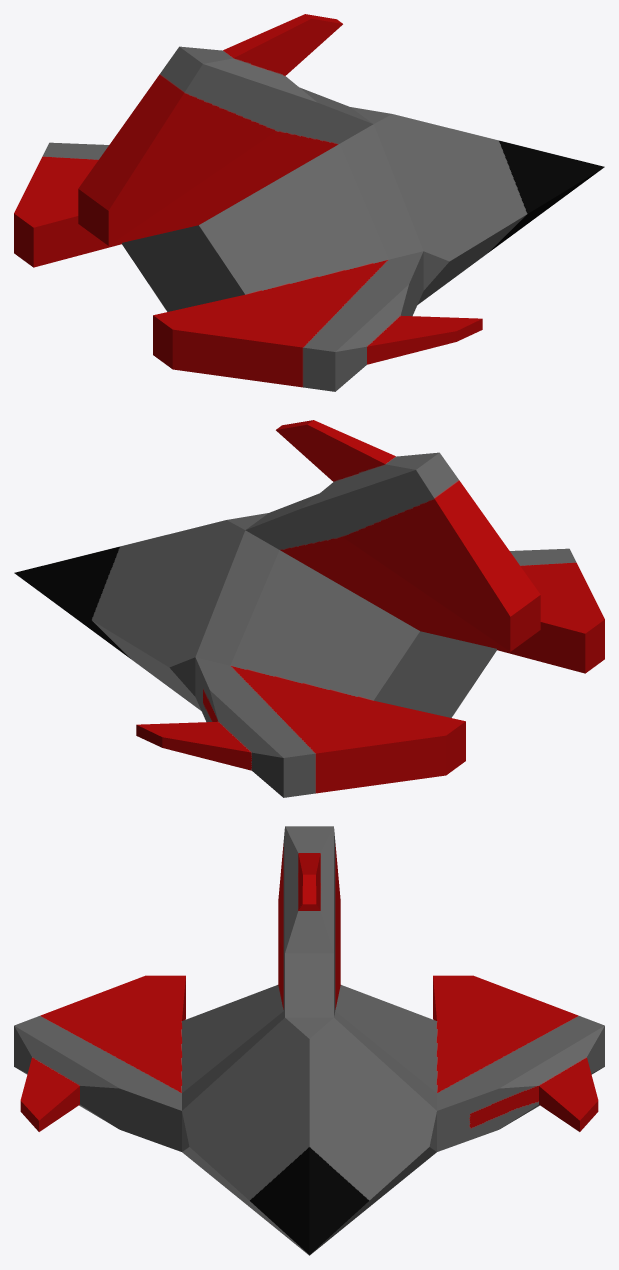
File: AlienScout.glb
The picture shows the model from 3 angles, top to bottom: view 1: azimuth 30°, elevation 25°; view 2: azimuth 150°, elevation 25°; view 3: azimuth 270°, elevation 25°; orthographic projection. The views are drawn at different scales.
Visible parts, largest first — view 1: Cube; view 2: Cube; view 3: Cube.
Part boxes in pixels (bbox=[...]): Cube: bbox=[14, 14, 604, 391]; Cube: bbox=[14, 420, 604, 797]; Cube: bbox=[14, 826, 604, 1255].
Size of the model in its own units: 5.74 by 3.63 by 5.56.
1 material, 1 textured.
